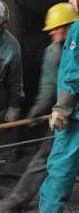boots: (0, 187, 12, 199), (0, 1, 1, 1)
gloves: (25, 104, 41, 128), (0, 106, 21, 122)
hard-hat: (0, 0, 19, 28)
ppe-suit: (0, 20, 40, 182)
